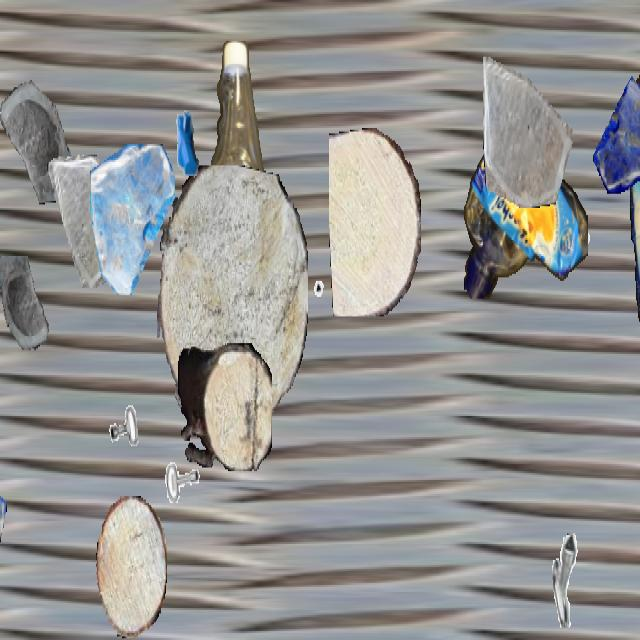glass: (483, 48, 573, 208), (90, 144, 174, 293), (0, 57, 72, 203), (46, 155, 120, 286), (0, 256, 57, 366), (592, 75, 640, 192), (0, 441, 6, 544)
metal: (95, 347, 155, 453), (158, 91, 214, 190), (552, 532, 606, 628), (162, 453, 208, 535), (554, 178, 594, 249), (310, 278, 350, 348)
plastic: (190, 41, 272, 393), (462, 137, 588, 297), (630, 2, 640, 389)
wood: (157, 166, 307, 436), (329, 128, 421, 316), (178, 343, 272, 471), (96, 496, 166, 638)
